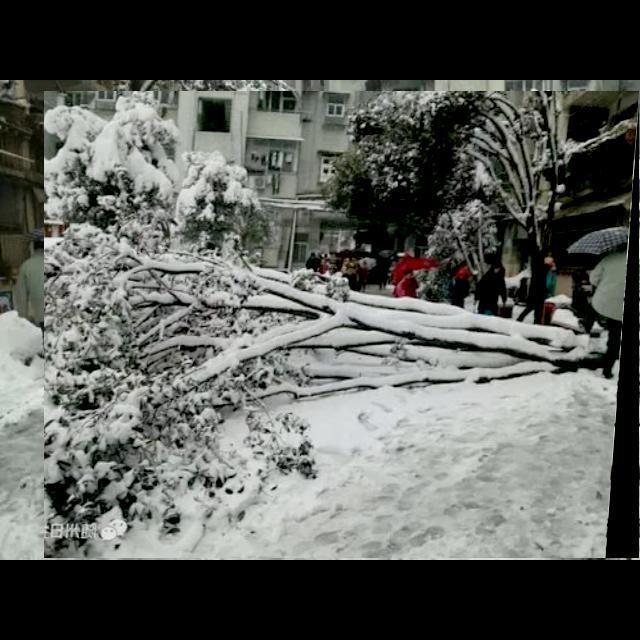fallen_tree: (44, 91, 640, 559)
